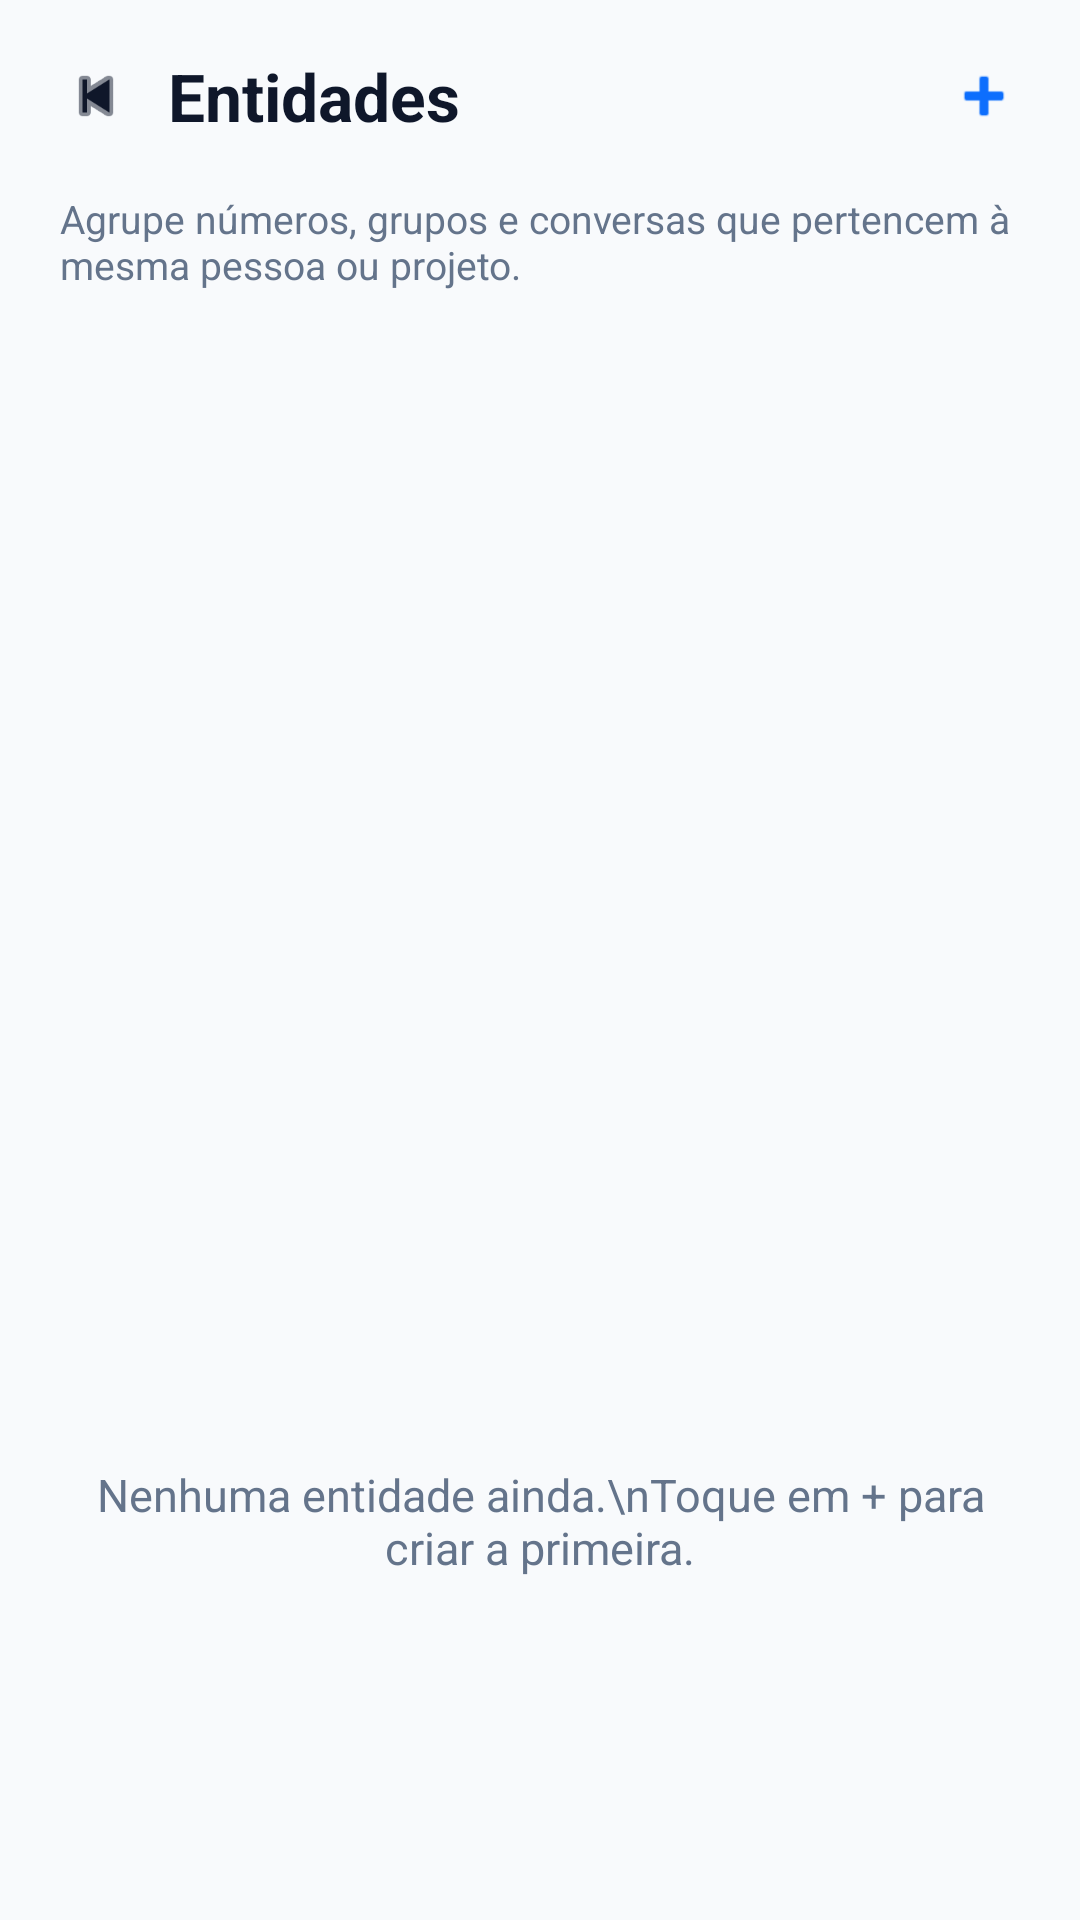

Point at icon controls on the screen. Image size 1080×1920, points as (x=x, y=y).
Criar entidade: (x=984, y=96)
Voltar: (x=96, y=96)
